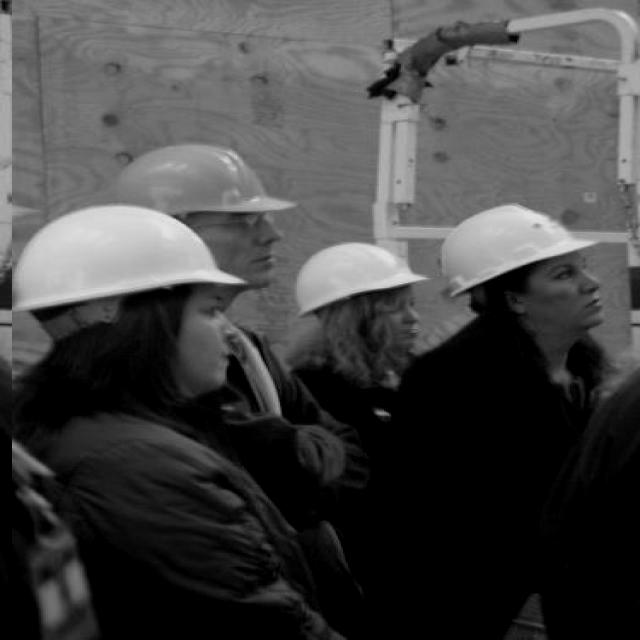face_nomask: (177, 296, 242, 378), (547, 255, 611, 320), (232, 210, 281, 275), (376, 290, 425, 342)
head_helmet: (3, 200, 245, 315), (430, 198, 607, 301), (99, 141, 305, 222), (290, 238, 432, 318)
person: (365, 210, 612, 640)
